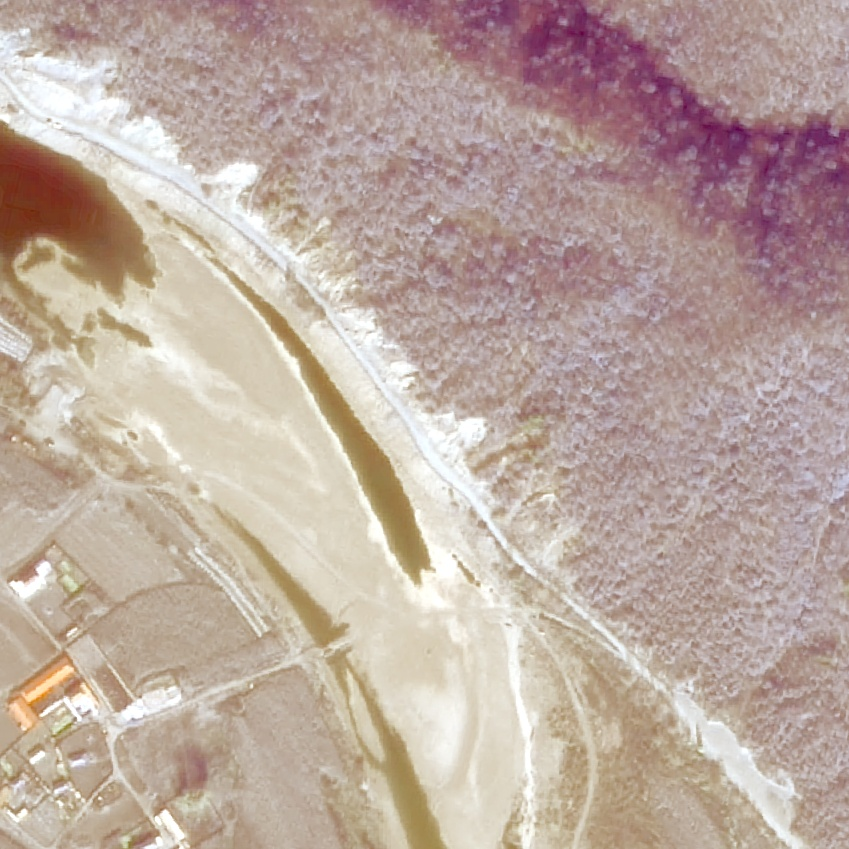slope: (0, 33, 262, 209)
